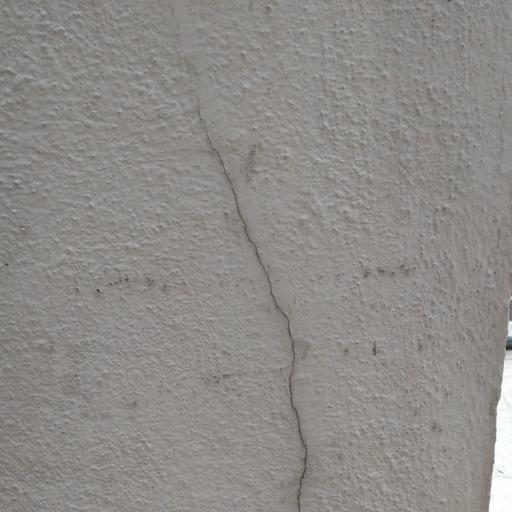minor_crack: (159, 0, 324, 512)
